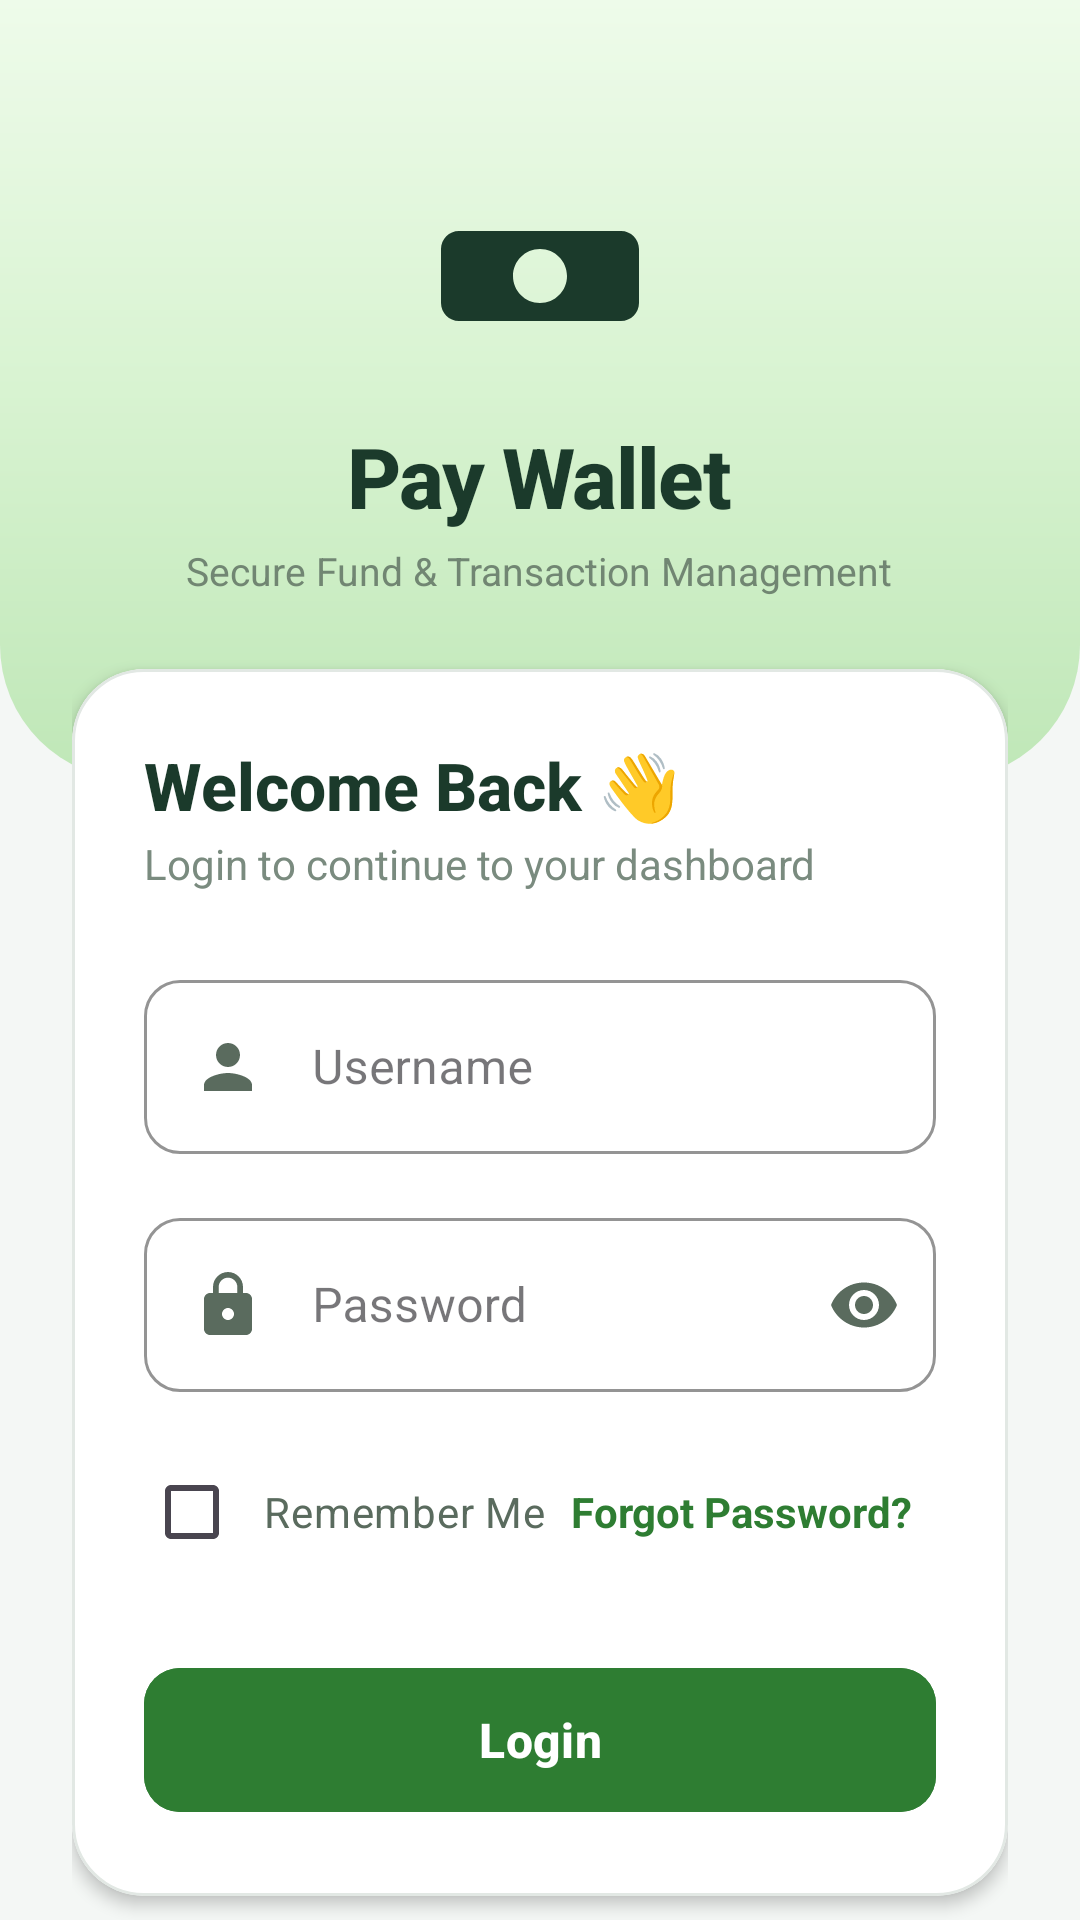

Screen size 1080×1920. Icon name, then its box in pixels as (x1, y1, x2, y2):
money: (441, 231, 639, 321)
